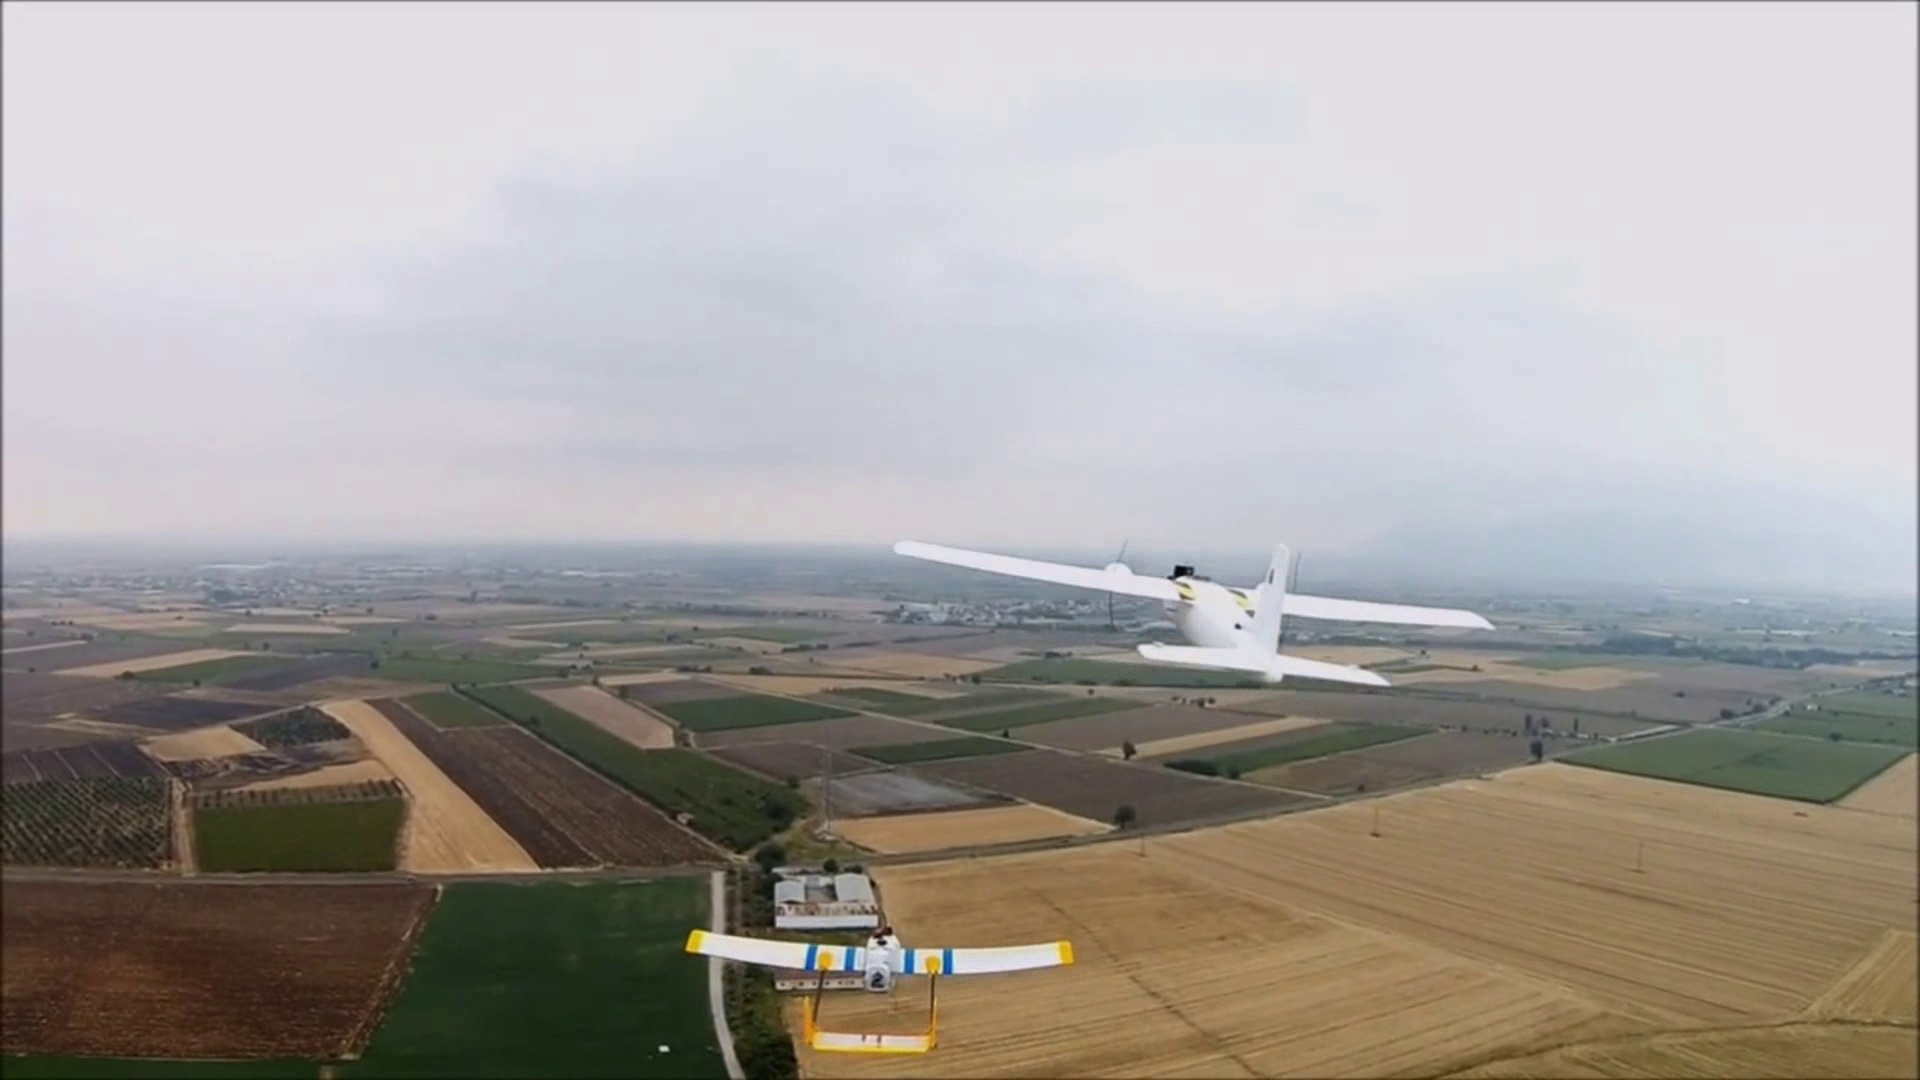airplane: (889, 536, 1492, 693)
